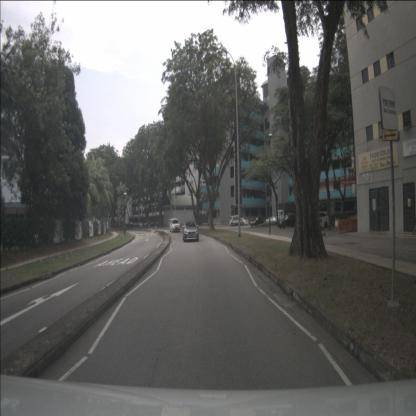vehicle-car: (310, 211, 329, 230), (182, 220, 198, 242), (277, 214, 298, 229), (169, 218, 180, 233), (250, 216, 264, 227), (265, 216, 277, 225), (238, 217, 248, 226)
vehicle-truck: (276, 203, 295, 224), (229, 215, 240, 226)
